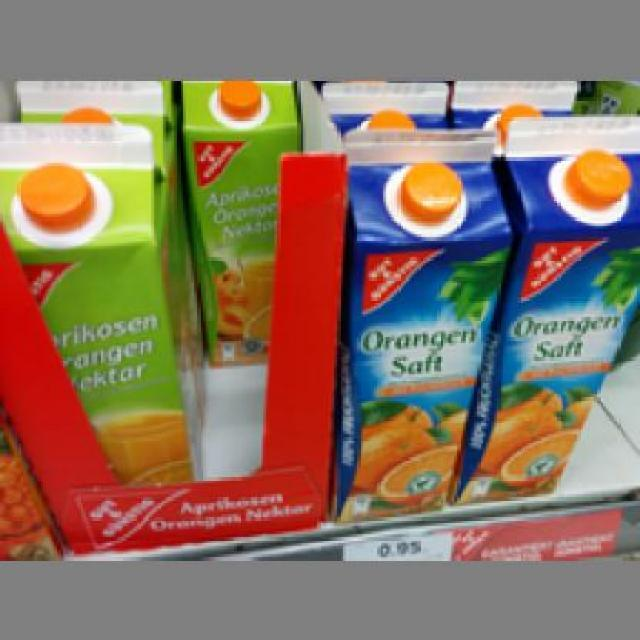Juice: (452, 113, 638, 510), (0, 117, 195, 483), (337, 123, 512, 520), (180, 77, 297, 360)
